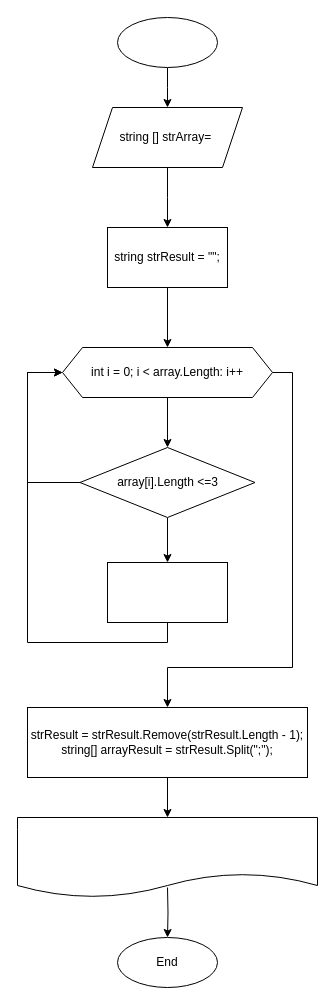
This 335x1005 diagram has some shape labels left out. The centre of each missing label's shape, as x and y in pixels:
Console.WriteLine($"[ {string.Join(", ", arrayResult)} ]);: point (167, 857)
Start: point (167, 42)
strResult = strResult + array[i] + ";";: point (167, 592)
